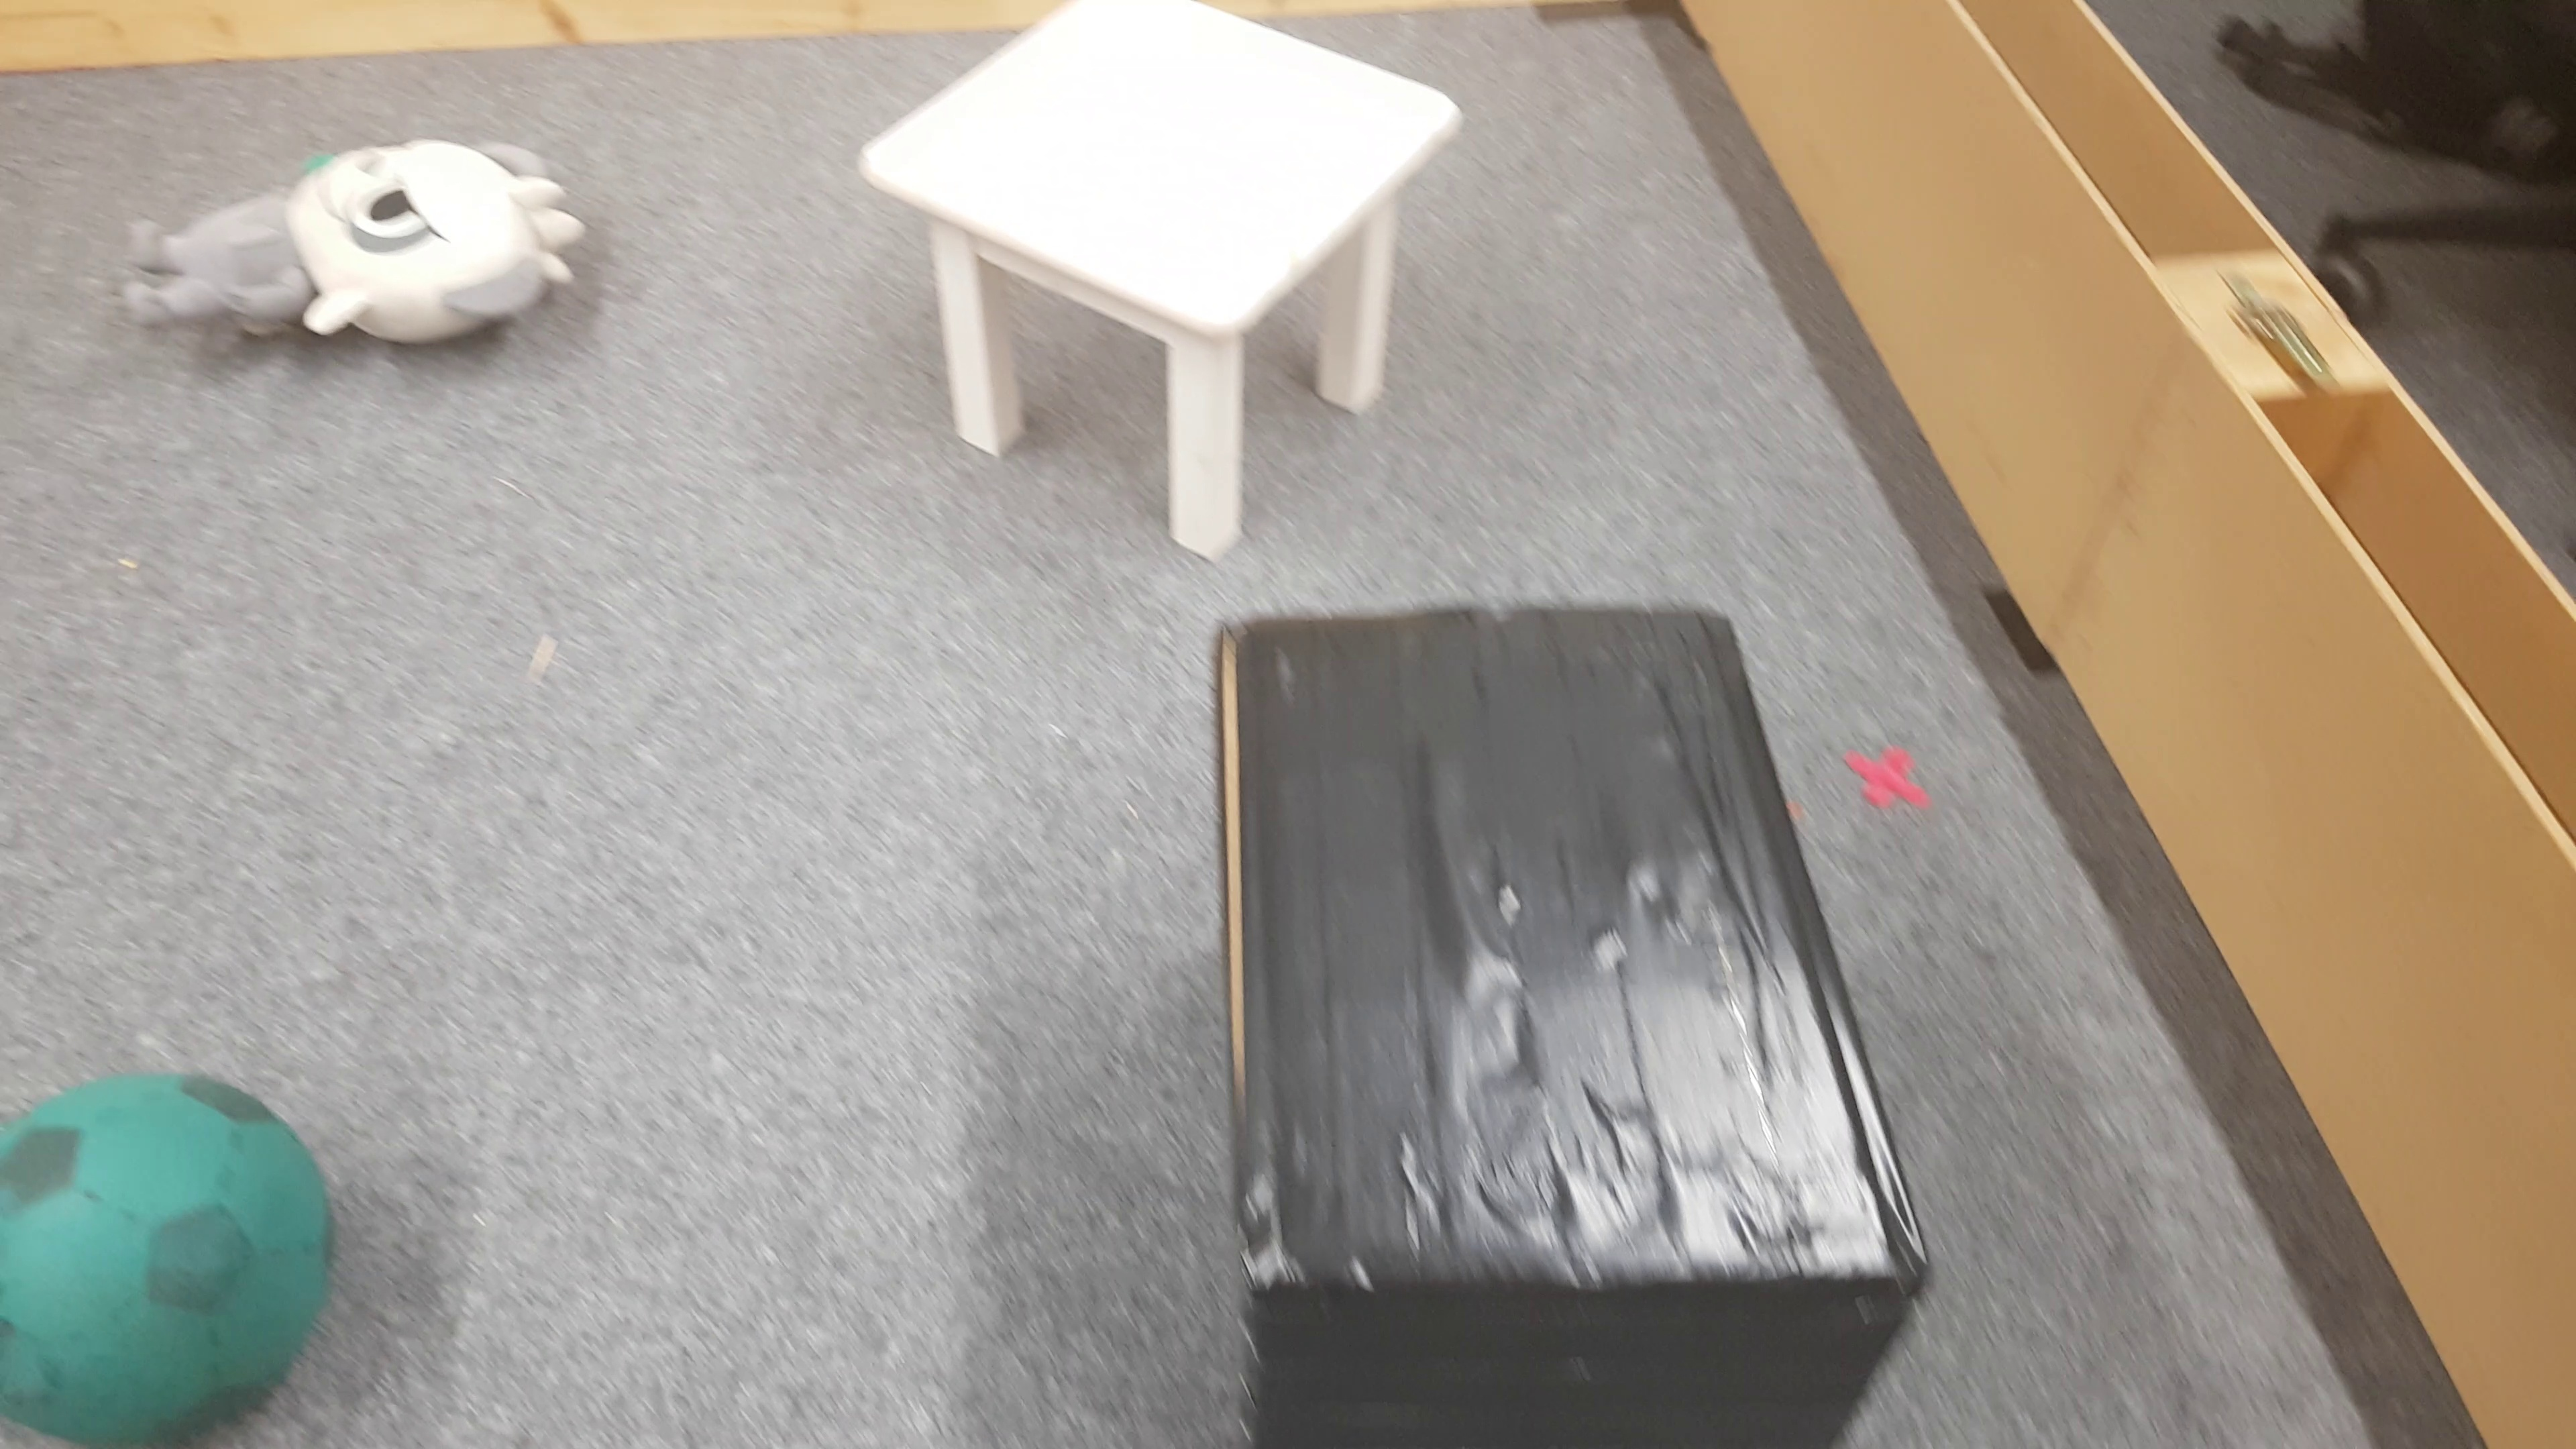grasp: (122, 136, 580, 361)
kick: (7, 1074, 338, 1444)
push: (1191, 594, 1943, 1449)
